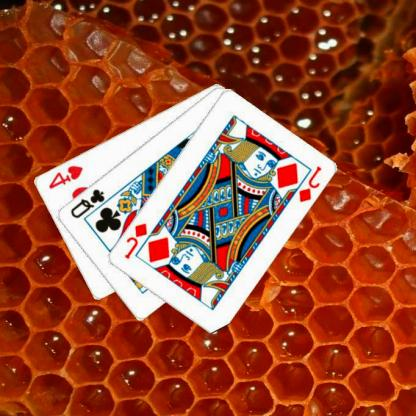4H: (47, 162, 86, 190)
JD: (297, 163, 325, 204), (123, 220, 150, 261)
QC: (69, 186, 108, 220)
